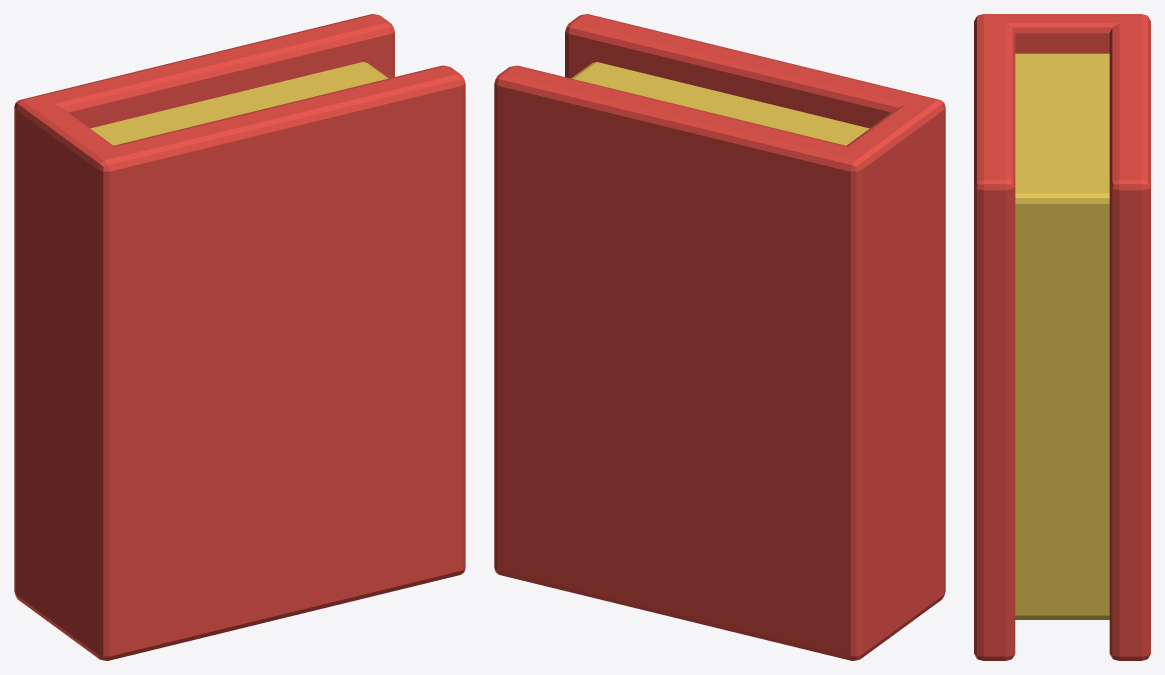
File: Livro.fbx
3 renders of one model, left to right at view 1: azimuth 30°, elevation 25°; view 2: azimuth 150°, elevation 25°; view 3: azimuth 270°, elevation 25°, orthographic. The views are drawn at different scales.
Parts seen in each view (by area): view 1: Cube.001; view 2: Cube.001; view 3: Cube.001.
Part boxes in pixels (x1,y1,x2,y2): Cube.001: (14, 14, 465, 660); Cube.001: (494, 14, 945, 660); Cube.001: (974, 14, 1150, 660).
Size of the model in its own units: 445 by 581 by 194.
